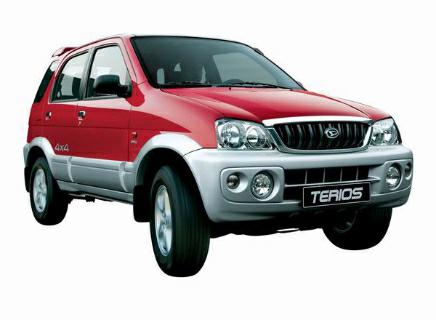丰田-特锐: (17, 30, 421, 293)
